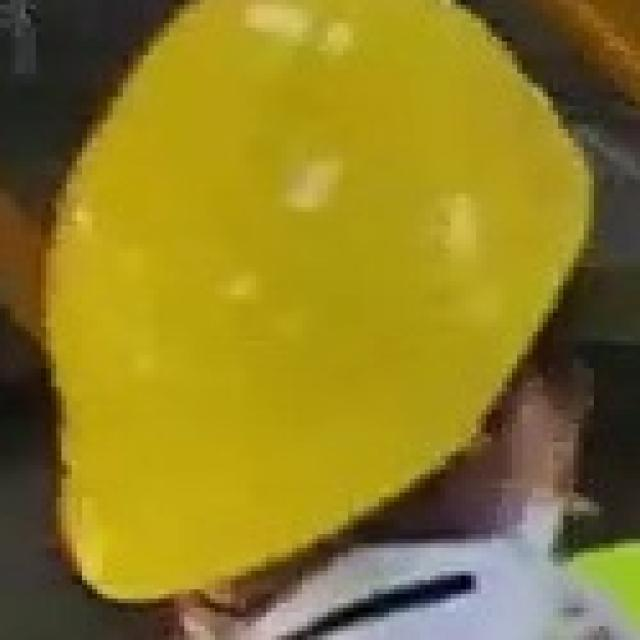yellow helmet: (44, 1, 601, 602)
